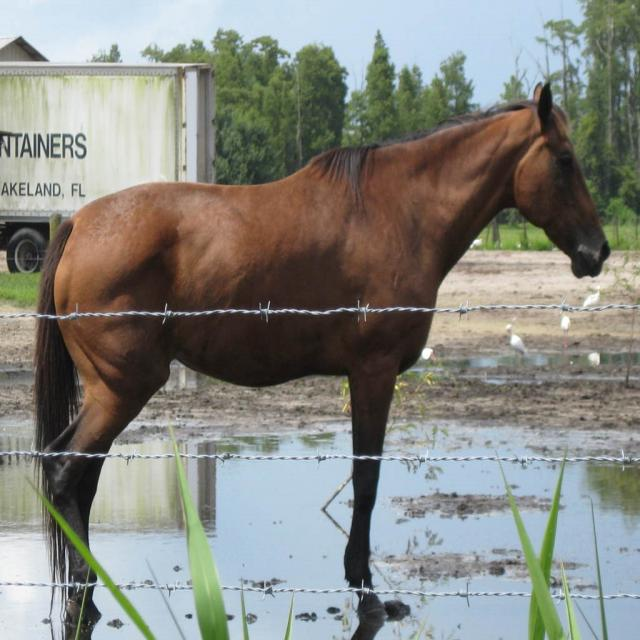Horse: (32, 82, 610, 625)
